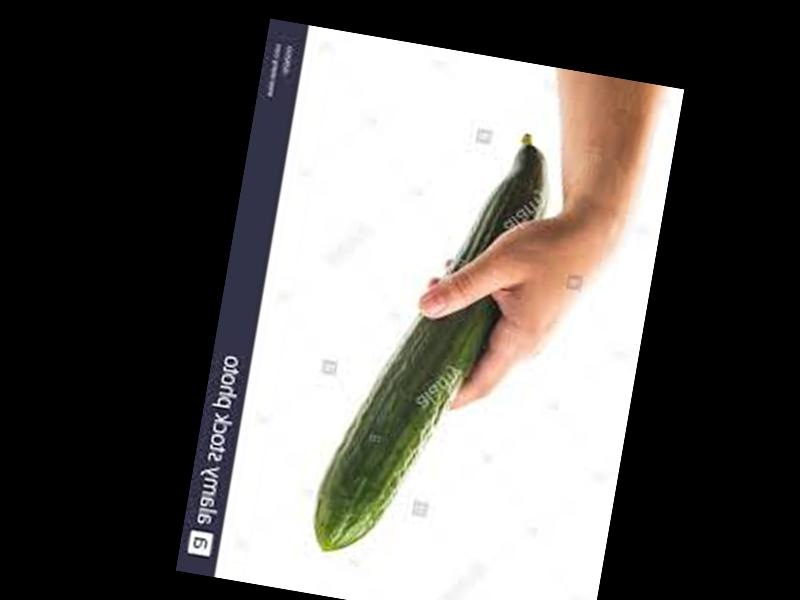Cucumber: (307, 107, 558, 579)
